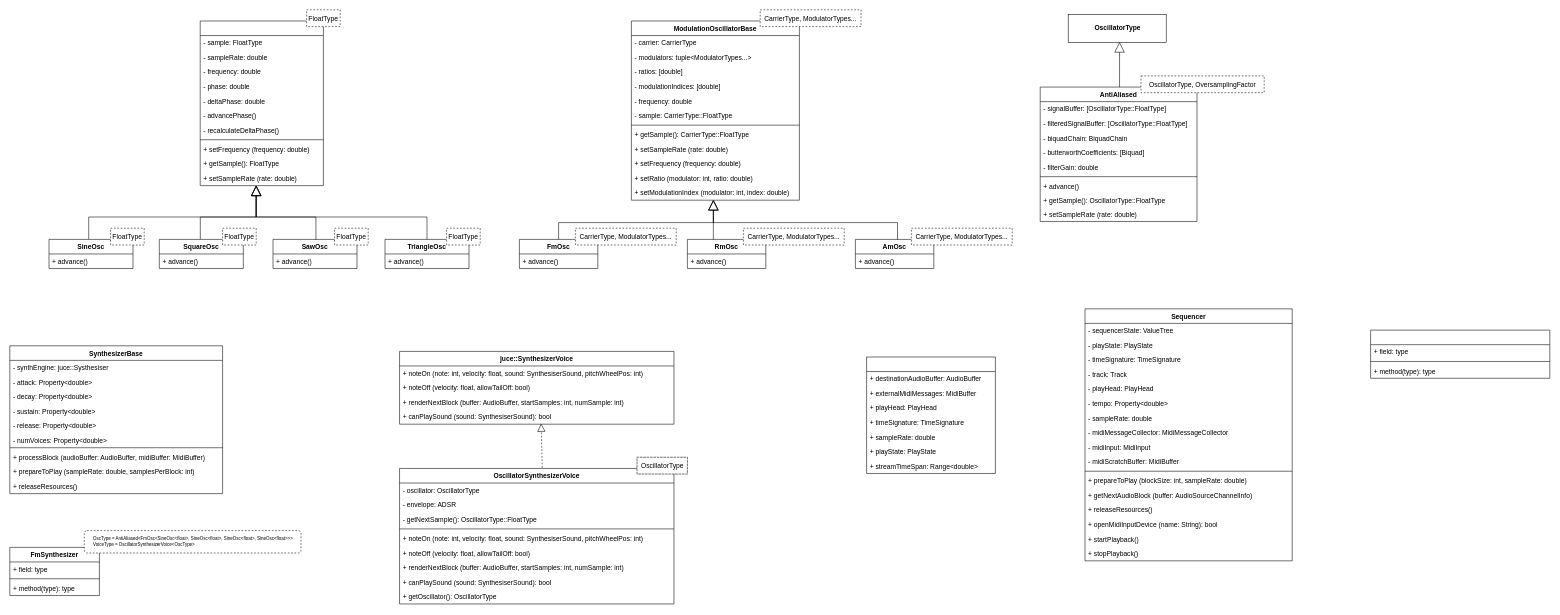
The diagram is 1560 pixels wide and 615 high, and some of its shapes have lost their labels. Here are the shapes that lost their labels. From the top down, the box of each, then its label:
(200, 20, 323, 186): PrimitiveOscillatorBase
(1370, 330, 1550, 378): Track
(866, 356, 995, 473): RenderContext
